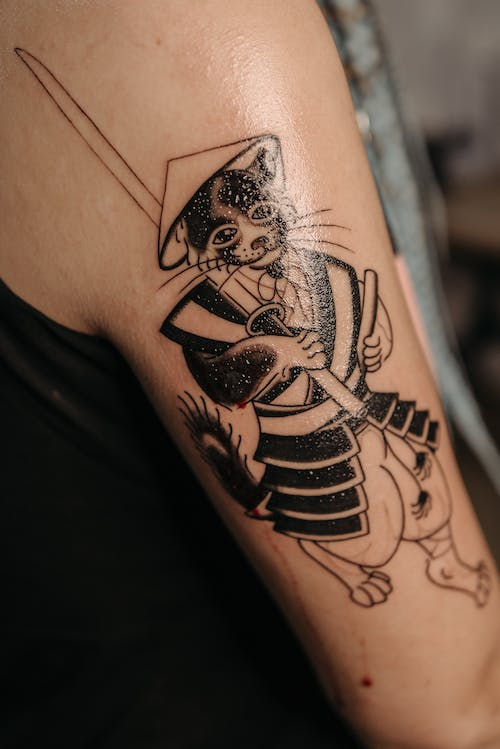blood: (177, 166, 375, 691)
